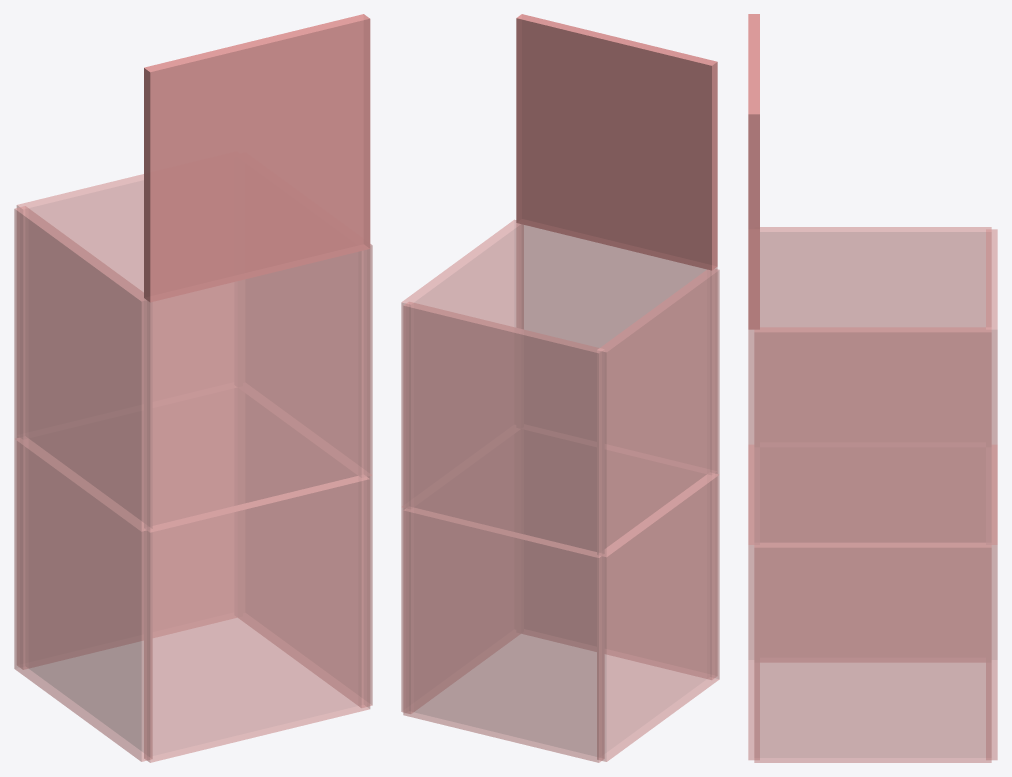
Rendered from torre_step10.glb.
The picture shows the model from 3 angles, left to right: view 1: azimuth 30°, elevation 25°; view 2: azimuth 150°, elevation 25°; view 3: azimuth 270°, elevation 25°; orthographic projection. The views are drawn at different scales.
Visible parts, largest first — view 1: qN.002, qN, qN.001, qS, qS.001, qW.001, qW, qE, qE.001; view 2: qN.002, qS.001, qS, qN.001, qN, qW.001, qW, qE.001, qE; view 3: qE.001, qE, qW.001, qW, qS.001, qN.002, qS, qN, qN.001.
Boxes of the visible parts, x1,y1,x2,y2 form: qN.002: (144,14,370,302); qN: (144,476,370,762); qN.001: (144,249,370,532); qS: (17,388,236,669); qS.001: (16,174,235,439); qW.001: (14,206,152,531); qW: (14,438,152,761); qE: (238,392,372,707); qE.001: (238,244,372,477); qN.002: (516,14,717,270); qS.001: (403,301,604,557); qS: (403,508,604,762); qN.001: (516,223,717,474); qN: (522,430,717,679); qW.001: (597,269,719,557); qW: (597,474,719,761); qE.001: (401,219,523,508); qE: (401,433,520,713); qE.001: (754,327,991,547); qE: (754,543,991,762); qW.001: (760,227,991,446); qW: (760,447,985,662); qS.001: (986,229,997,544); qN.002: (748,14,759,329); qS: (986,445,997,760); qN: (748,445,759,760); qN.001: (748,329,759,544).
Size of the model in its own units: 1.05 by 3 by 1.05.
